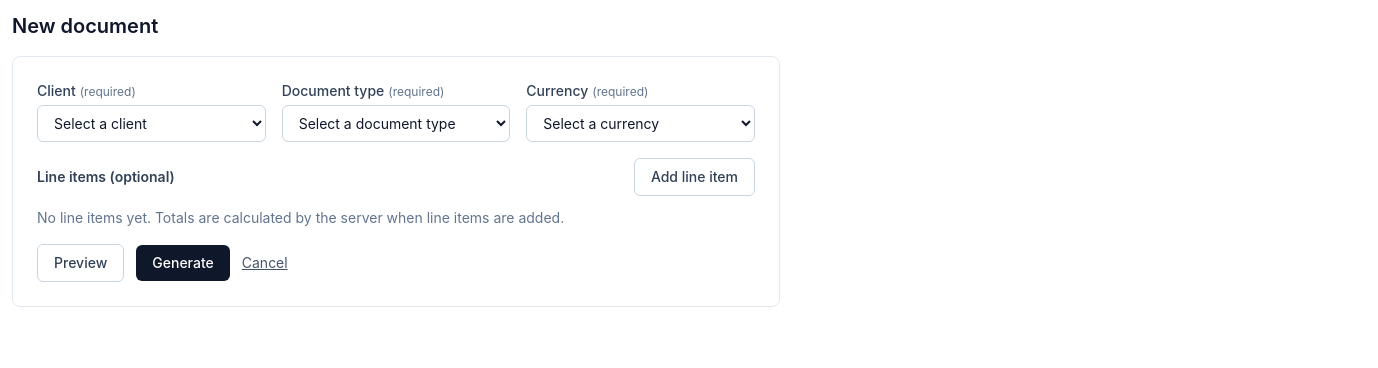
DocumentCreatePage › shows an error and stays on the page when preview fails
Select "Acme Ltd" in the dropdown labelled "Client(required)". click: (151, 124)
box: [37,105,266,142]
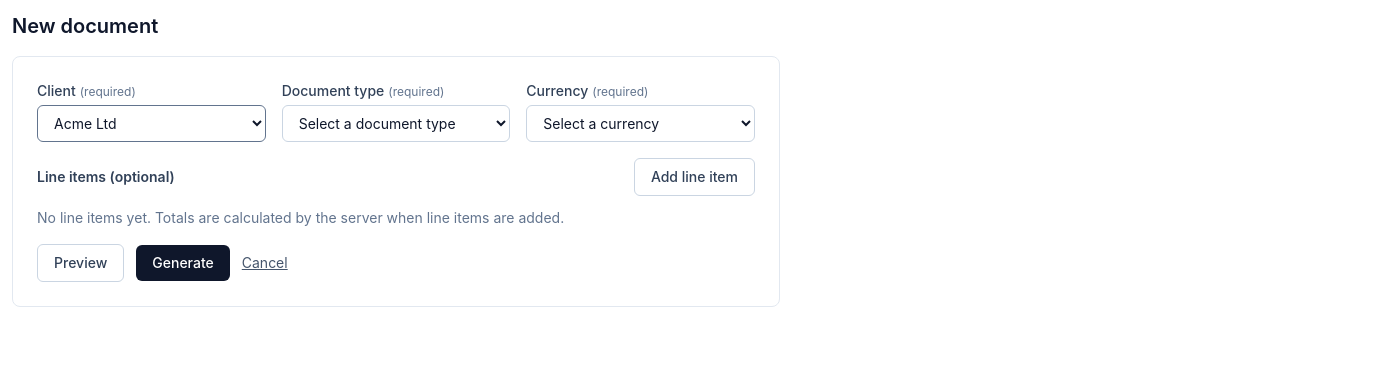
Select "Invoice" in the dropdown labelled "Document type(required)". click: (396, 124)
box: [282,105,510,142]
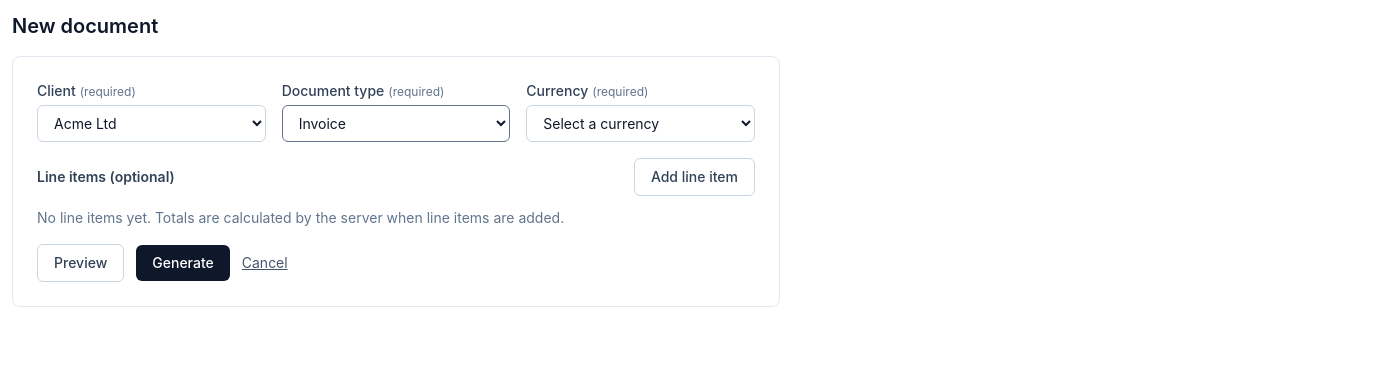
Select "AZN" in the dropdown labelled "Currency(required)". click: (641, 124)
box: [526,105,755,142]
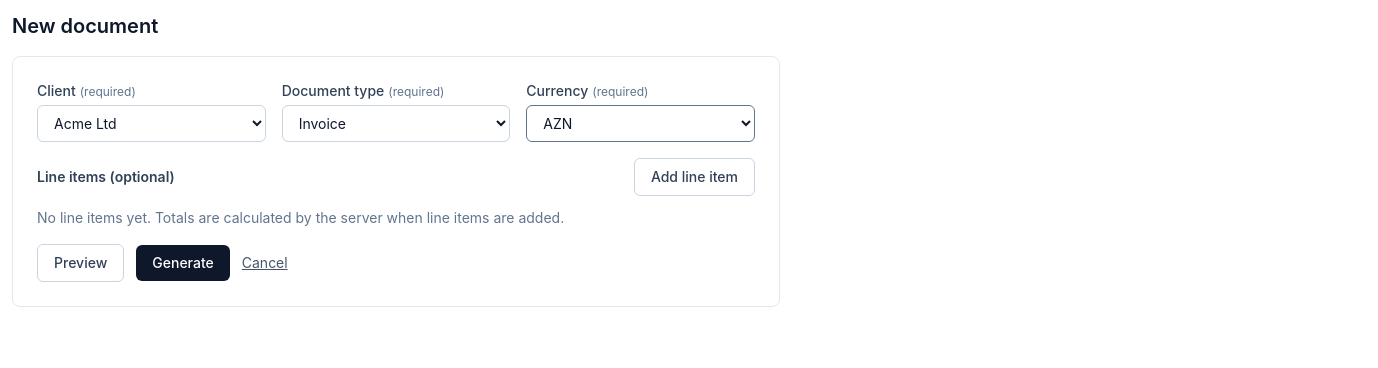
Click the button "Preview". click: click(81, 263)
box: [37,244,124,282]
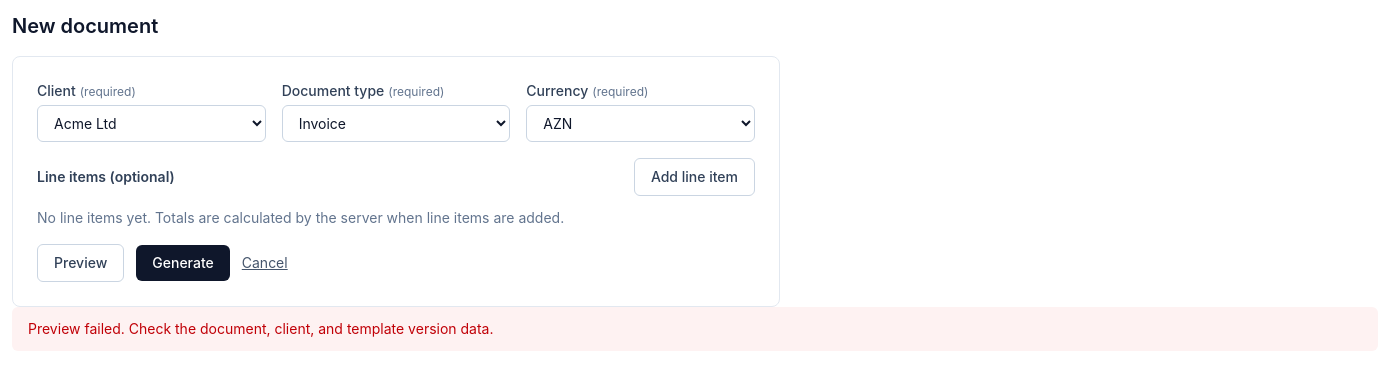
Check: the message shows "Preview failed", box [28,320,494,337]
